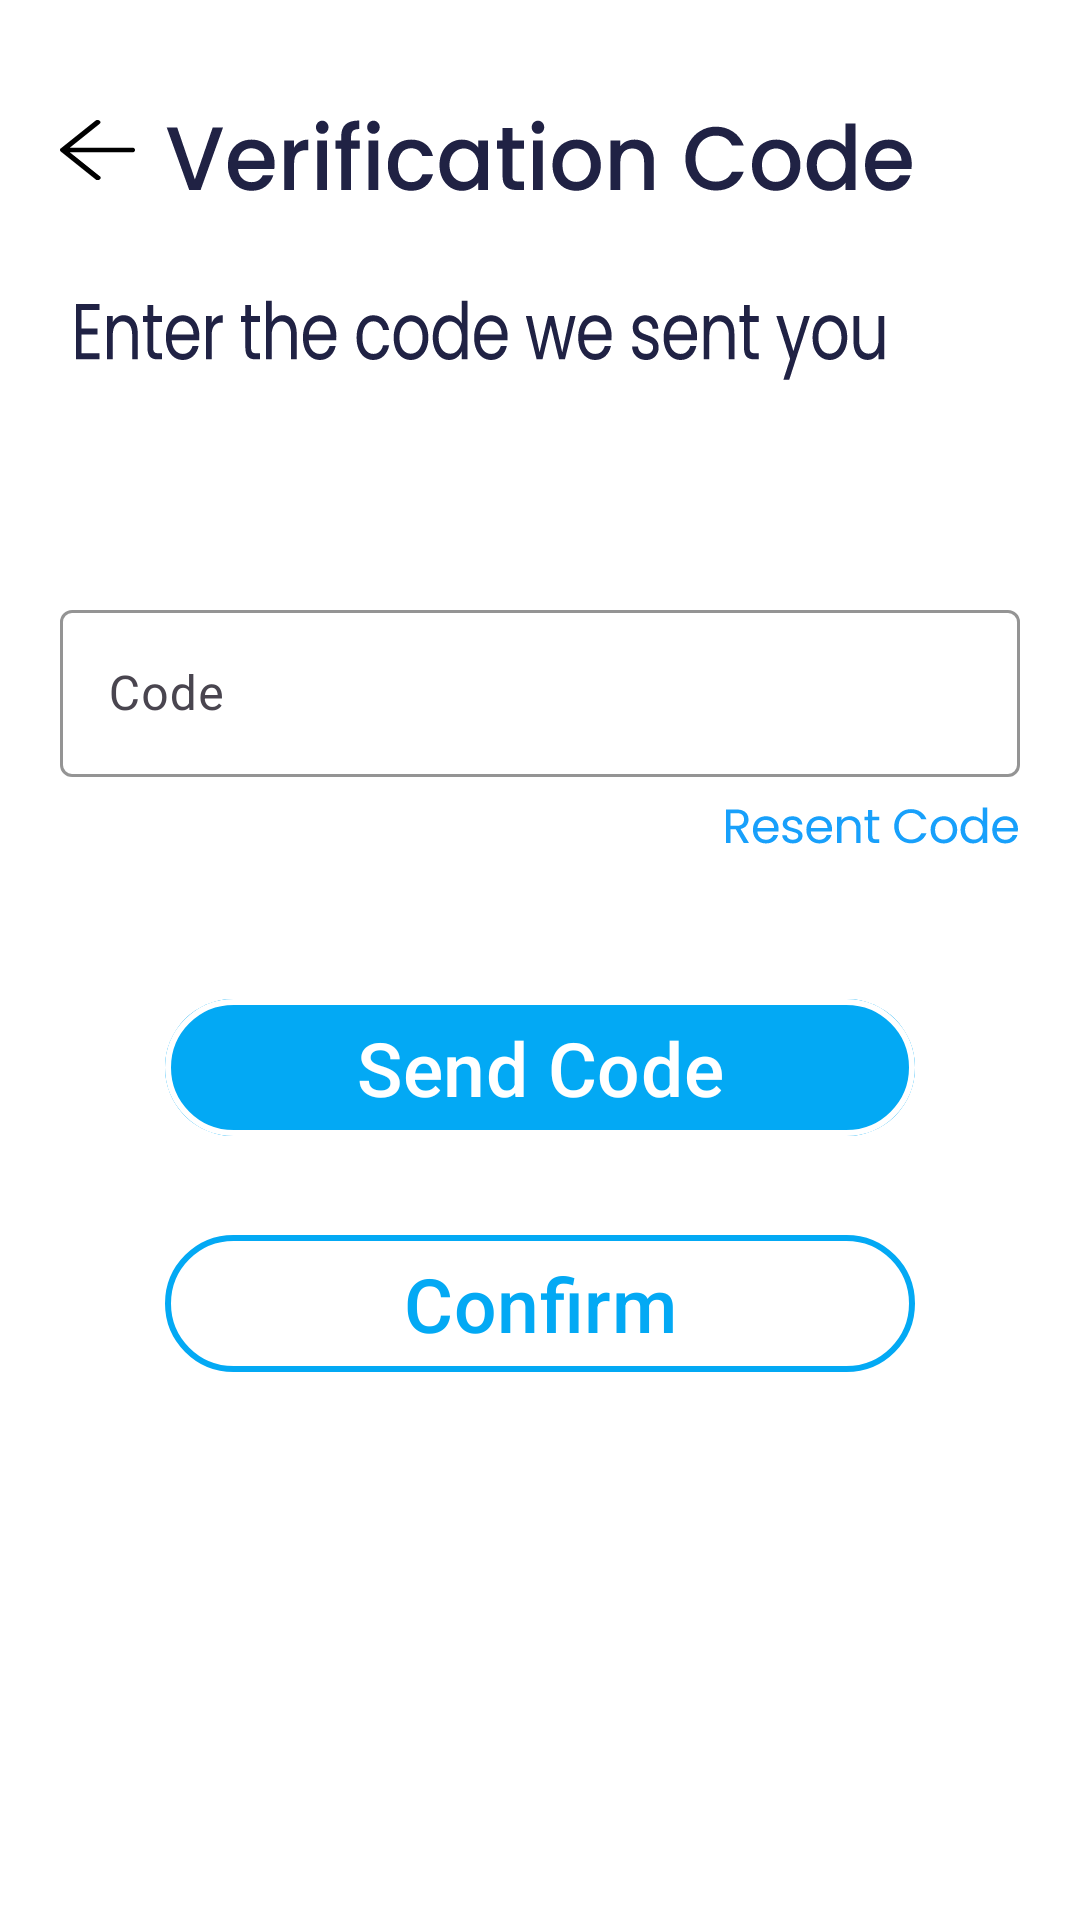

Icon click points for this 1080 × 1920 phone screenshot, format point (x, y):
back arrow navigation: point (97, 150)
